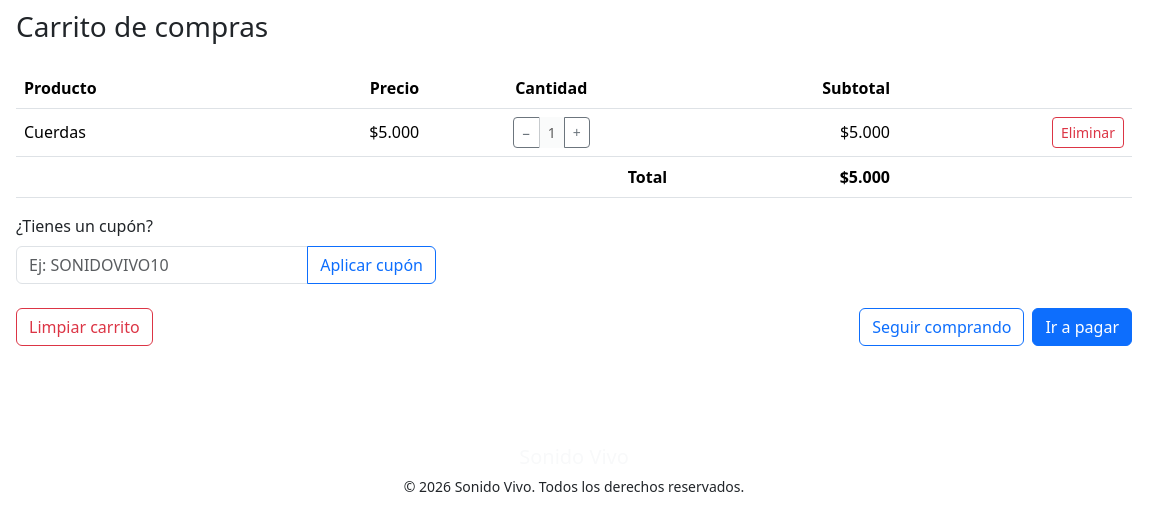
Test: Páginas de la tienda (datos desde la API) › Carrito: "Limpiar carrito" vacía todo
This screenshot has width=1149, height=509.
Click the button "Limpiar carrito".
click(84, 327)  # box [16,308,153,346]
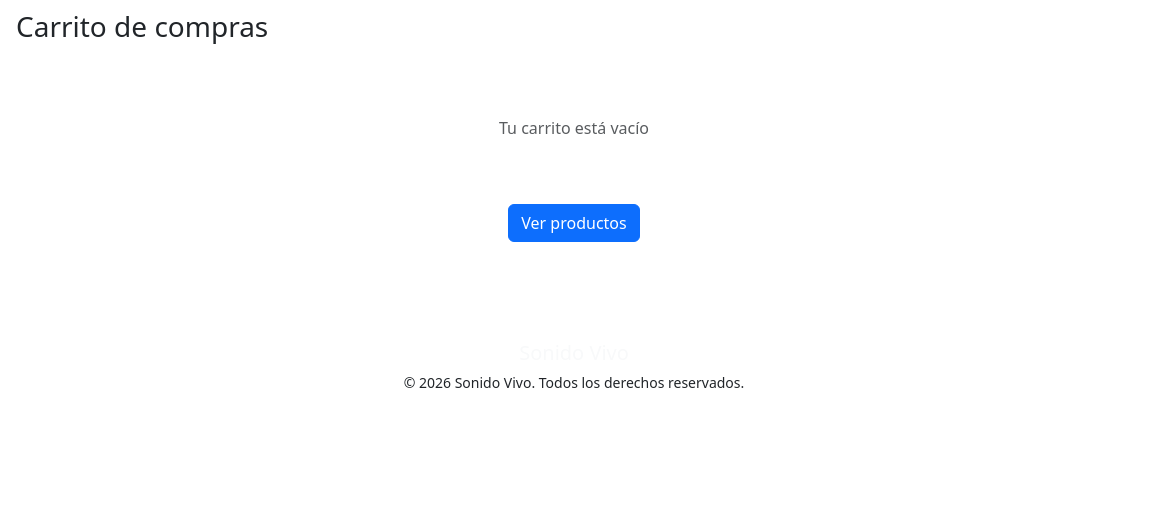
Now the text "Tu carrito está vacío" is shown, box [499,117,649,139]
